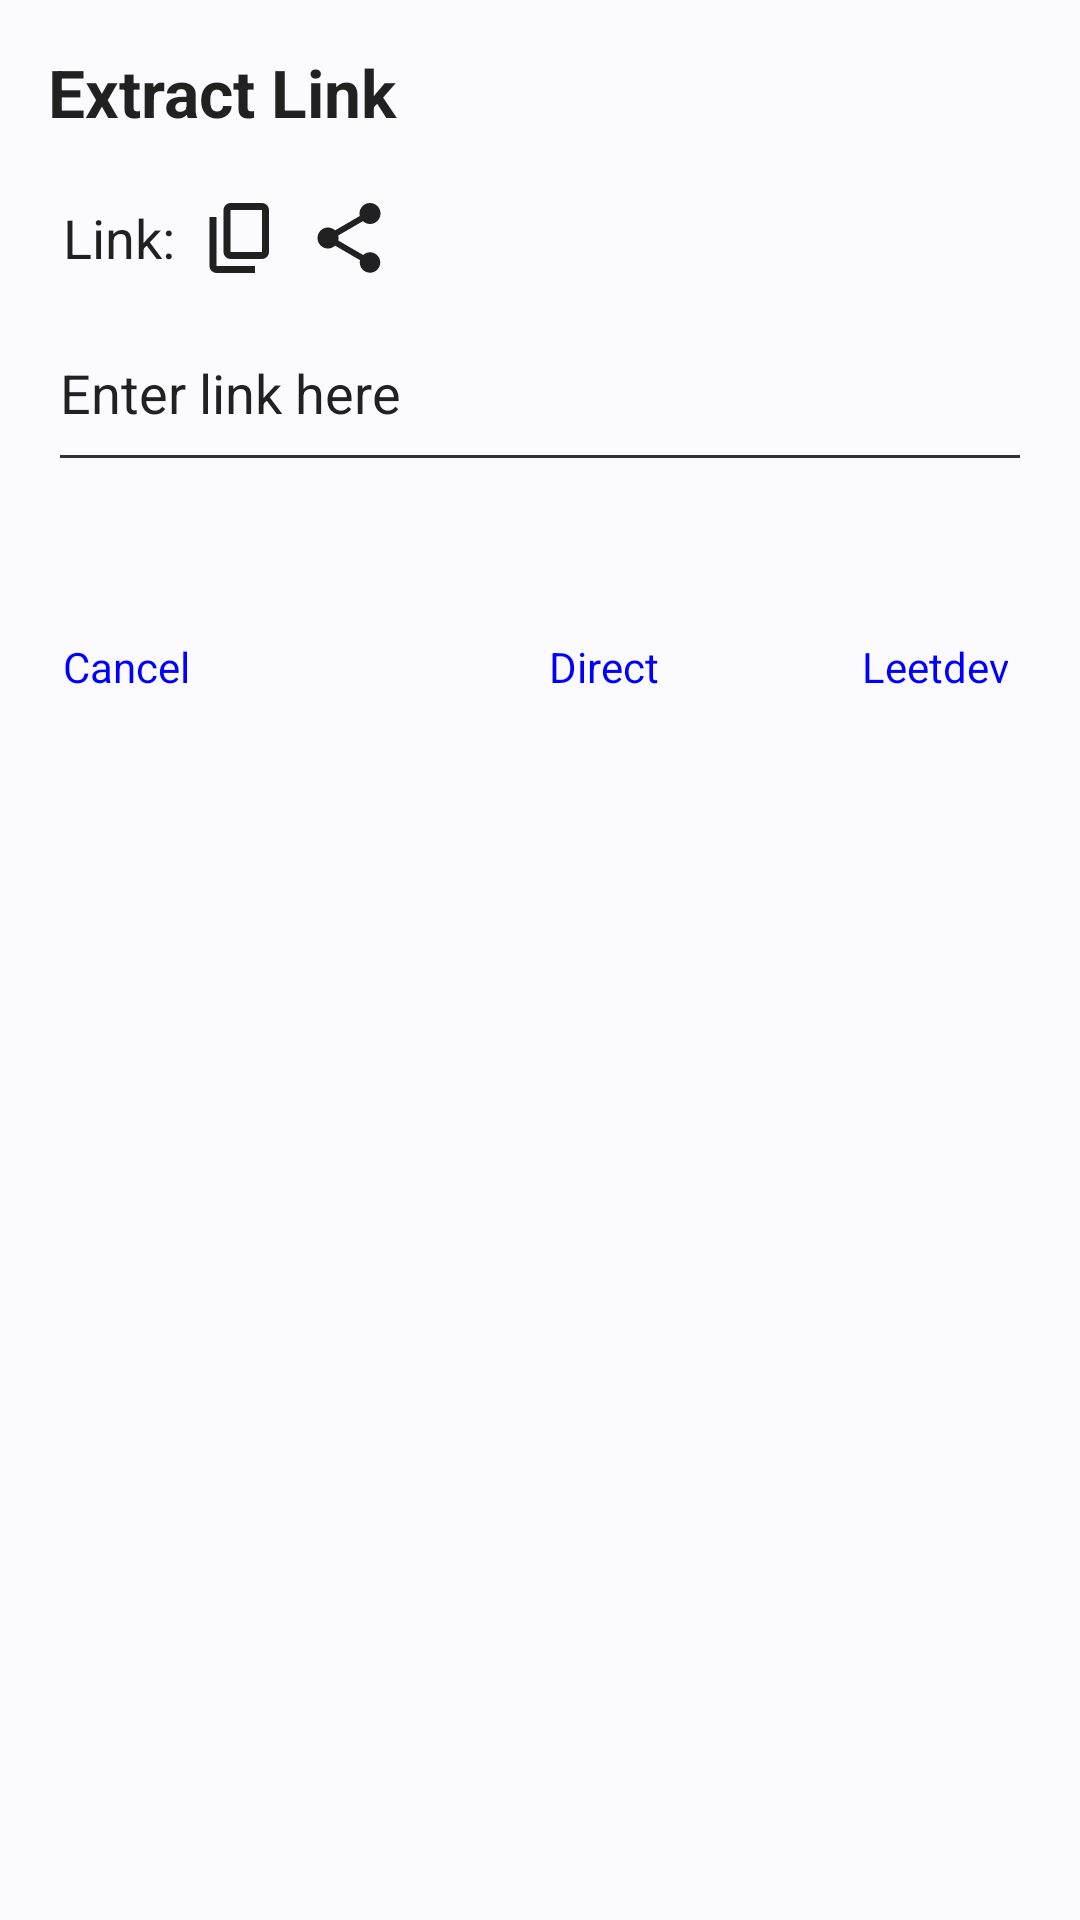

Where to tap for icons on this 1080 x 1920 app screen, as (x,y):
Copy: (239,238)
Share: (349,238)
